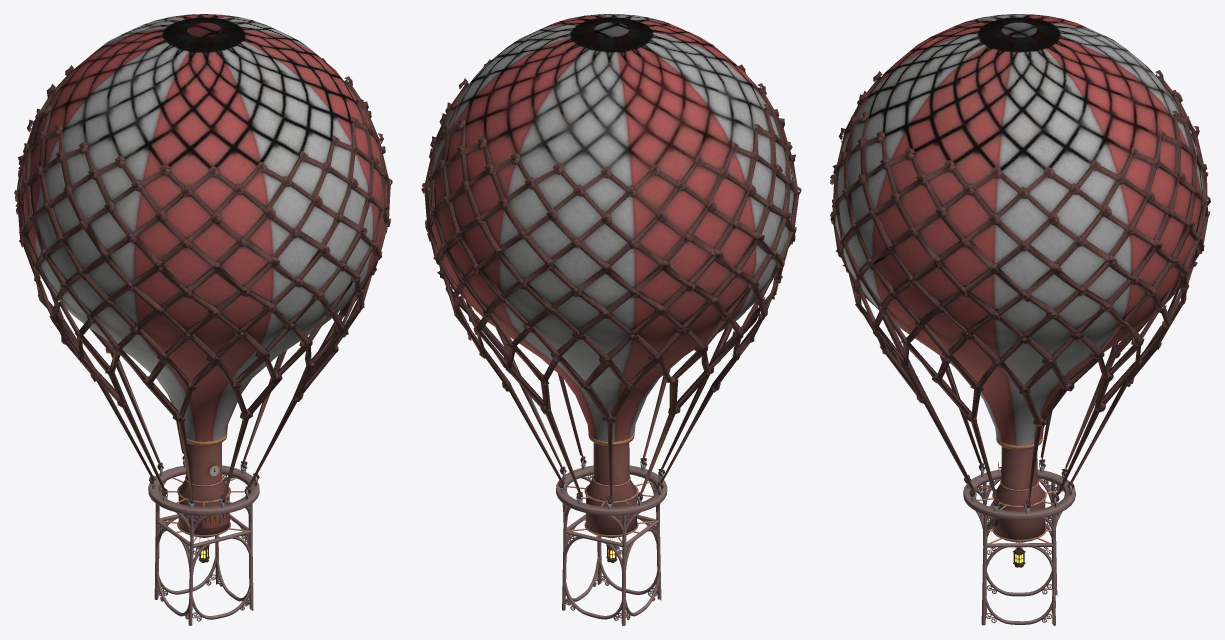
File: mdl_franch_balloon.gltf
3 views of the same model, side by side, from view 1: azimuth 30°, elevation 25°; view 2: azimuth 150°, elevation 25°; view 3: azimuth 270°, elevation 25° (orthographic).
Parts seen in each view (by area): view 1: balloon_balloon, details_ropes_mid, details_ropes_top, details_ropes_bottom, details_cage, balloon_burner, details_eyes; view 2: balloon_balloon, details_ropes_mid, details_ropes_top, details_ropes_bottom, details_cage, balloon_burner, details_eyes; view 3: balloon_balloon, details_ropes_mid, details_ropes_top, details_ropes_bottom, details_cage, balloon_burner, details_eyes.
Part boxes in pixels (x1,y1,x2,y2): balloon_balloon: (21,14,387,441); details_ropes_mid: (14,154,392,391); details_ropes_top: (18,58,387,247); details_ropes_bottom: (59,311,346,497); details_cage: (148,465,259,625); balloon_burner: (177,433,230,537); details_eyes: (149,456,259,508); balloon_balloon: (429,14,793,441); details_ropes_mid: (421,155,801,391); details_ropes_top: (427,59,795,248); details_ropes_bottom: (467,312,755,497); details_cage: (556,465,667,625); balloon_burner: (584,433,638,537); details_eyes: (558,456,664,508); balloon_balloon: (835,14,1203,445); details_ropes_mid: (830,168,1210,394); details_ropes_top: (832,70,1207,250); details_ropes_bottom: (873,315,1161,502); details_cage: (963,469,1075,625); balloon_burner: (990,437,1046,542); details_eyes: (964,459,1074,513).
Size of the model in its own units: 5.71 by 9.6 by 5.71.
Materials: 2 (2 with a texture image).
